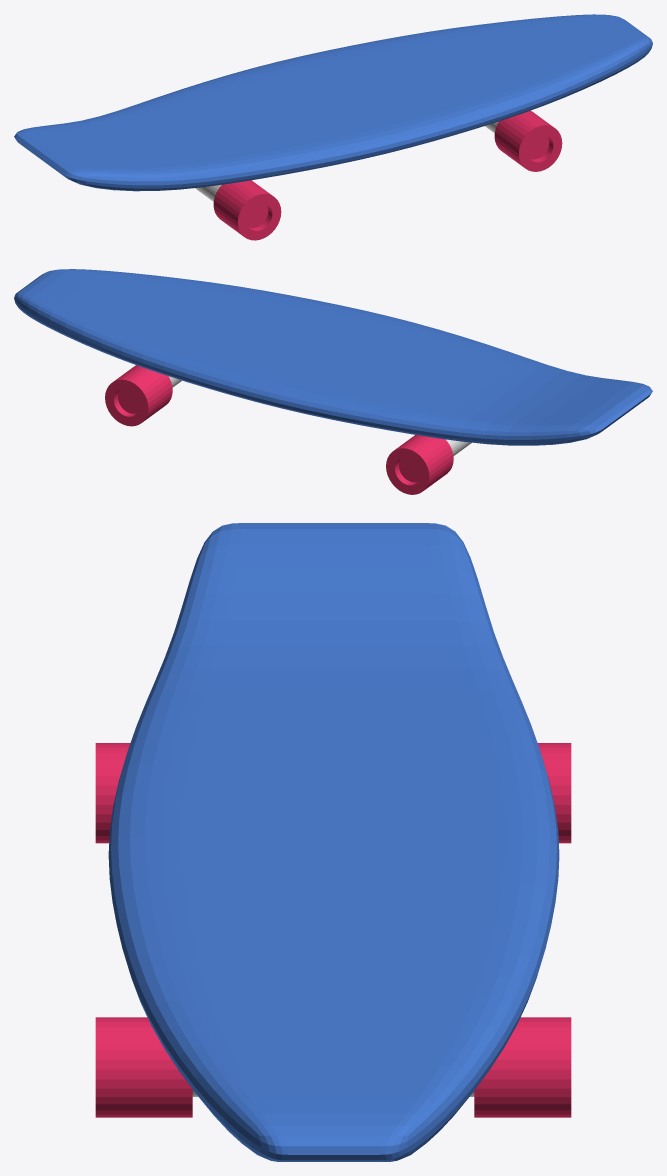
The model's file is skate.fbx.
3 renders of one model, top to bottom at view 1: azimuth 30°, elevation 25°; view 2: azimuth 150°, elevation 25°; view 3: azimuth 270°, elevation 25°, orthographic. The views are drawn at different scales.
Parts seen in each view (by area): view 1: skate, Cylinder, Cylinder.001; view 2: skate, Cylinder, Cylinder.001; view 3: skate, Cylinder.001, Cylinder.
Part boxes in pixels (x1,y1,x2,y2): skate: (14, 14, 652, 191); Cylinder: (195, 180, 281, 240); Cylinder.001: (485, 110, 562, 171); skate: (14, 269, 652, 445); Cylinder: (386, 435, 471, 494); Cylinder.001: (105, 365, 181, 426); skate: (108, 523, 559, 1161); Cylinder.001: (95, 1017, 571, 1117); Cylinder: (95, 743, 571, 843).
Size of the model in its own units: 215 by 28.15 by 74.02.
